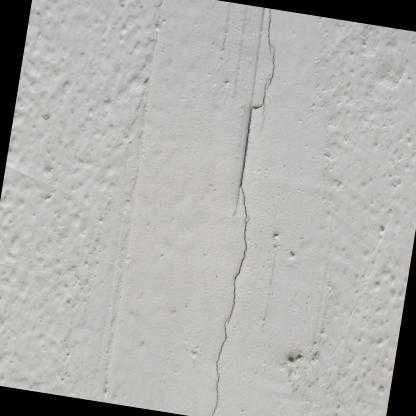crack: (207, 6, 278, 416)
